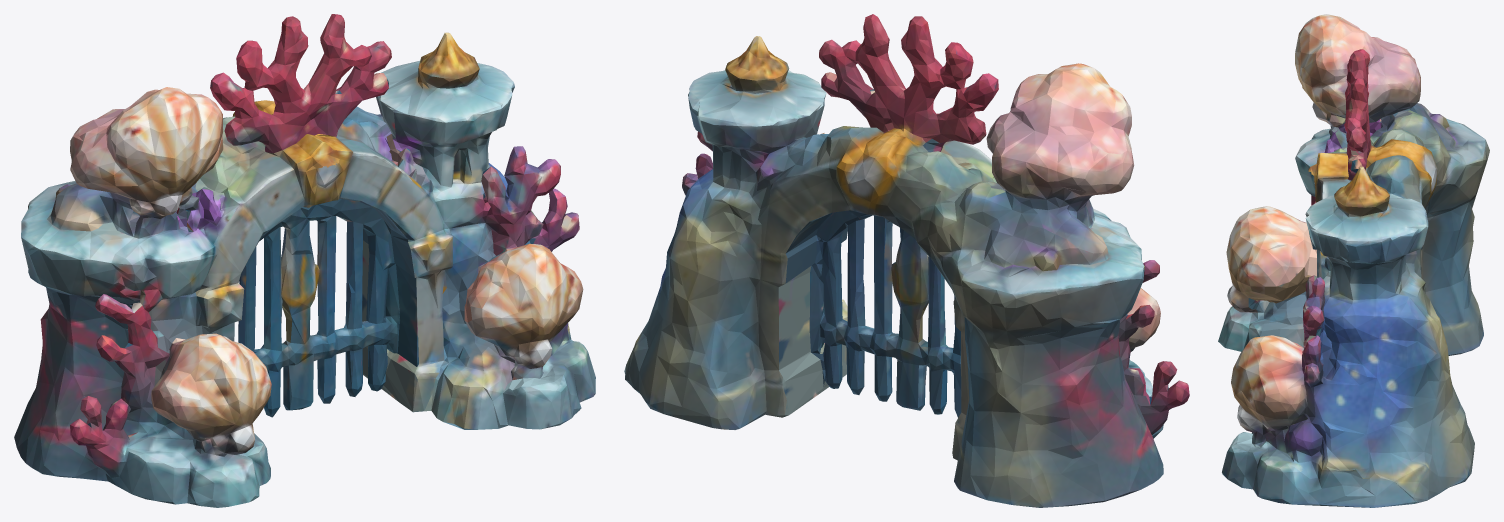
File: sea_coral_gate_1117.glb
The picture shows the model from 3 angles, left to right: view 1: azimuth 30°, elevation 25°; view 2: azimuth 150°, elevation 25°; view 3: azimuth 270°, elevation 25°; orthographic projection. The views are drawn at different scales.
Parts seen in each view (by area): view 1: tmpxqkf5lkk.ply; view 2: tmpxqkf5lkk.ply; view 3: tmpxqkf5lkk.ply.
Part boxes in pixels (bbox=[...]): tmpxqkf5lkk.ply: bbox=[14, 14, 595, 507]; tmpxqkf5lkk.ply: bbox=[624, 14, 1189, 507]; tmpxqkf5lkk.ply: bbox=[1218, 14, 1489, 507].
Bounding box in the file's own units: 2 × 1.45 × 1.04.
Materials: 1 (1 with a texture image).
